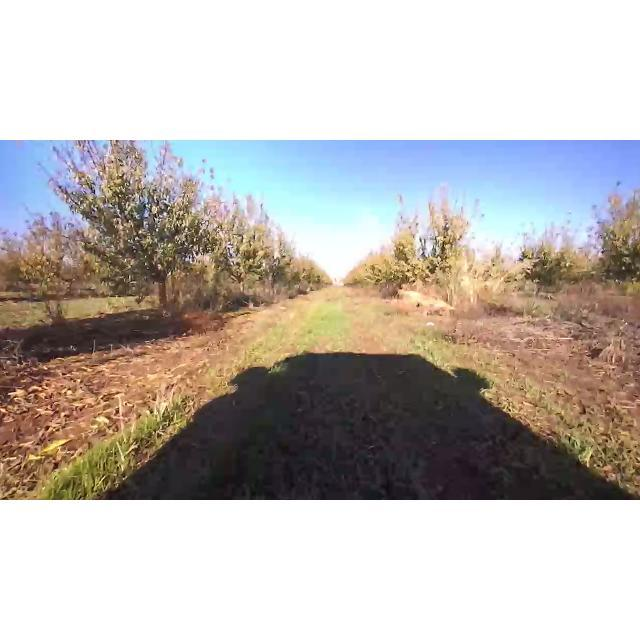direk: (26, 141, 230, 319), (394, 174, 501, 298), (198, 185, 278, 308)
